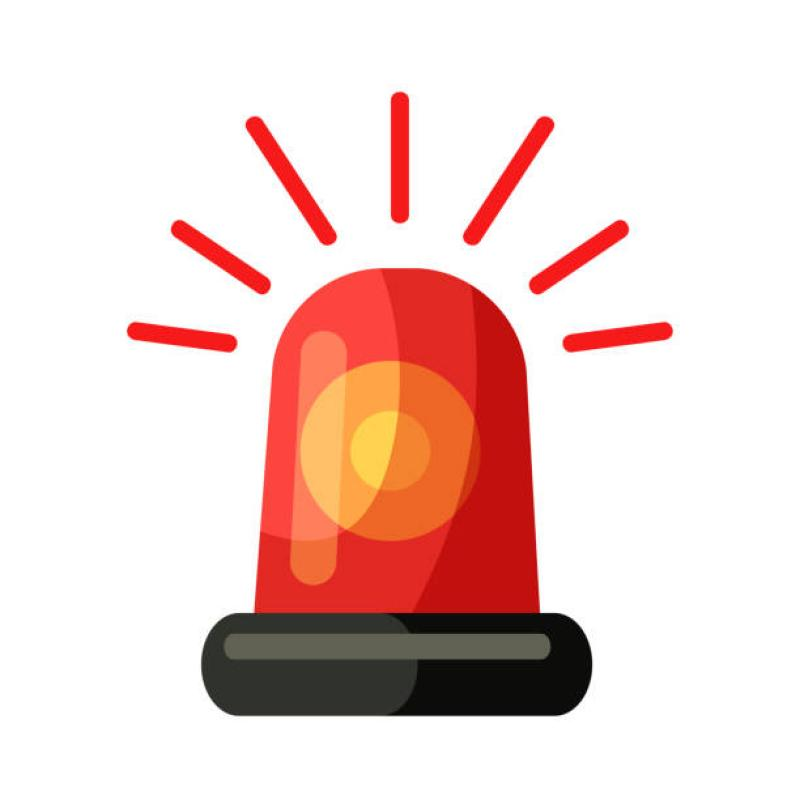AmbulanceSiren: (135, 256, 637, 778)
